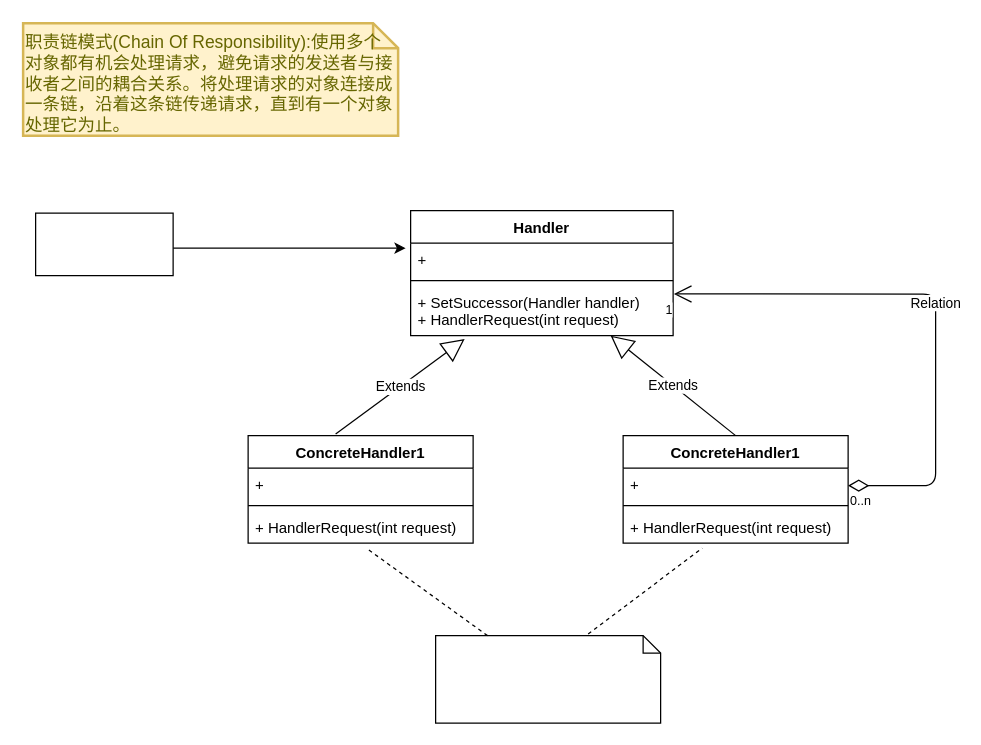
Some shapes in this 981 by 745 pixel diagram are drawn without their labels. Each missing label, with the box of its shape:
Client: (34, 212, 173, 276)
具体处理类，处理它所负责的请求，可访问它的后继者，如果可以处理该请求，就处理之，否则将该请求转发给它的后继者: (434, 634, 661, 723)
